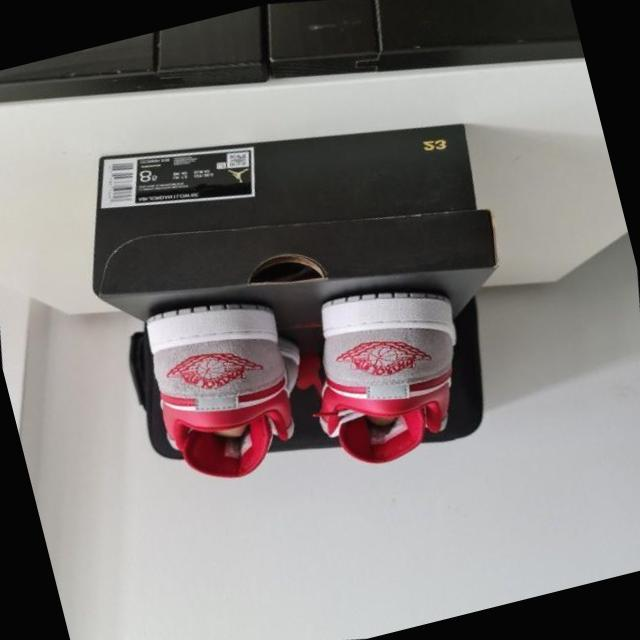nike_original_jordan: (280, 246, 524, 493), (112, 262, 344, 509)
